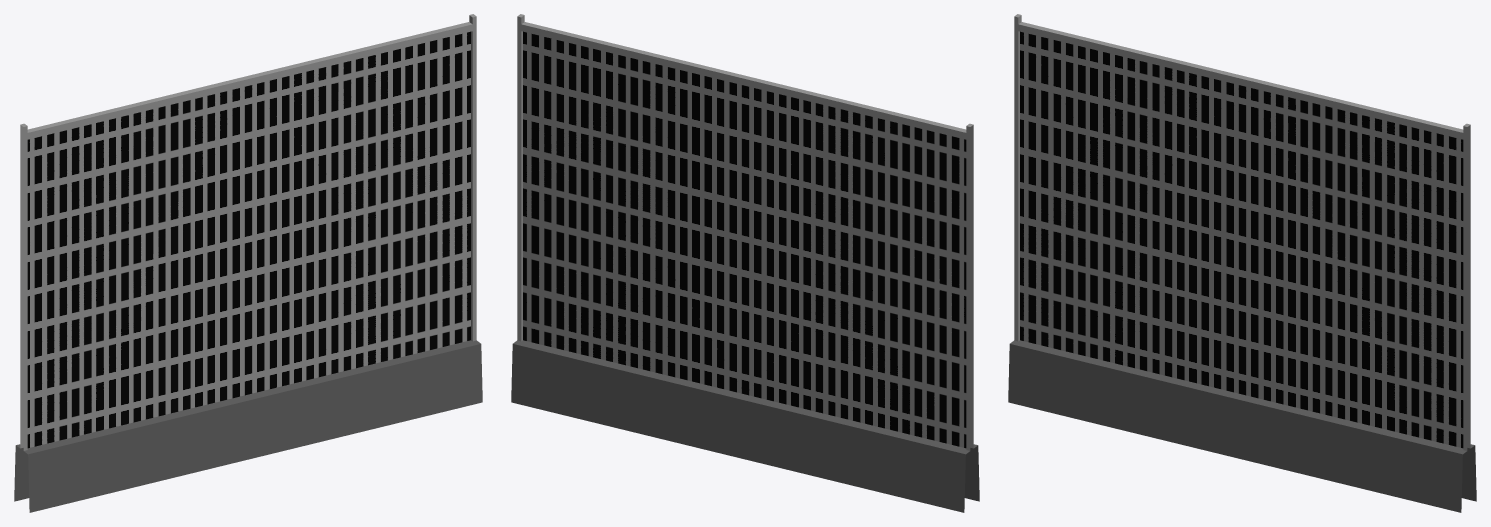
Rendered from Fence.fbx.
The picture shows the model from 3 angles, left to right: view 1: azimuth 30°, elevation 25°; view 2: azimuth 150°, elevation 25°; view 3: azimuth 330°, elevation 25°; orthographic projection.
Visible parts, largest first — view 1: Fence; view 2: Fence; view 3: Fence.
Boxes of the visible parts, left/top/right/bottom form: Fence: left=14, top=14, right=482, bottom=512; Fence: left=511, top=14, right=979, bottom=512; Fence: left=1008, top=14, right=1476, bottom=512.
Bounding box in the file's own units: 435 × 350 × 25.6.
Materials: 2 (2 with a texture image).
